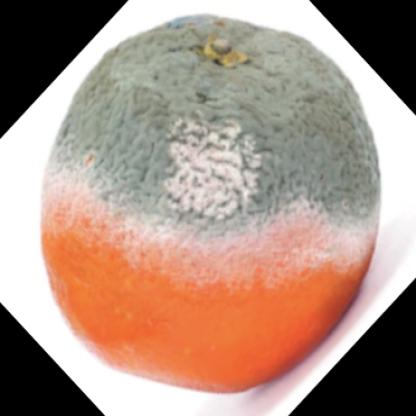rotten: (41, 16, 379, 392)
